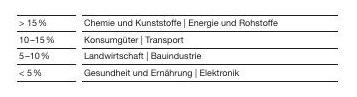table: (0, 0, 357, 97)
